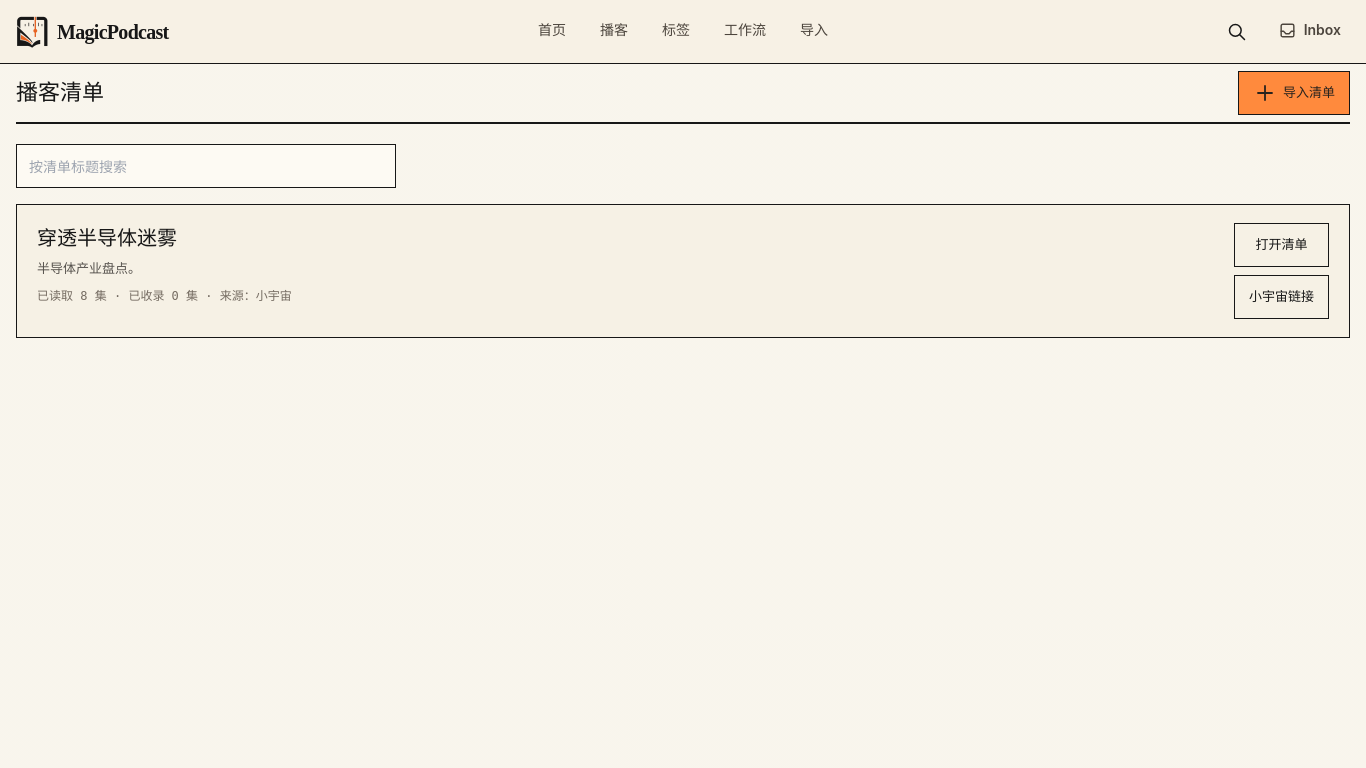
Test: CollectionsContent › opens the import modal with a concise link field
This screenshot has width=1366, height=768.
Step 1. Click the button "导入清单" → [1294, 93], box [1238,71,1350,115]
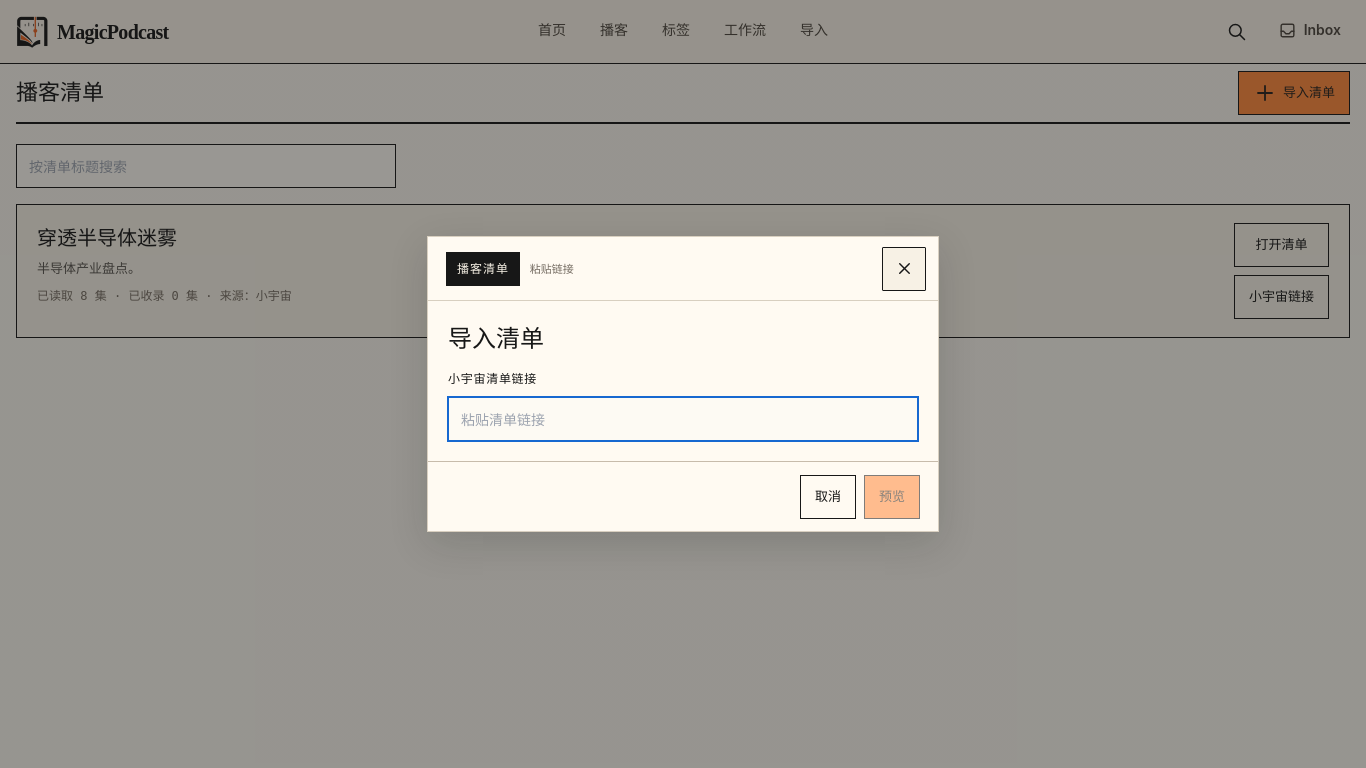
Expected: the dialog "导入清单" is shown, [427,236,939,532]
Expected: the field labelled "小宇宙清单链接" is shown, [448,397,918,441]
Expected: the button "预览" is disabled, [864,474,920,518]
